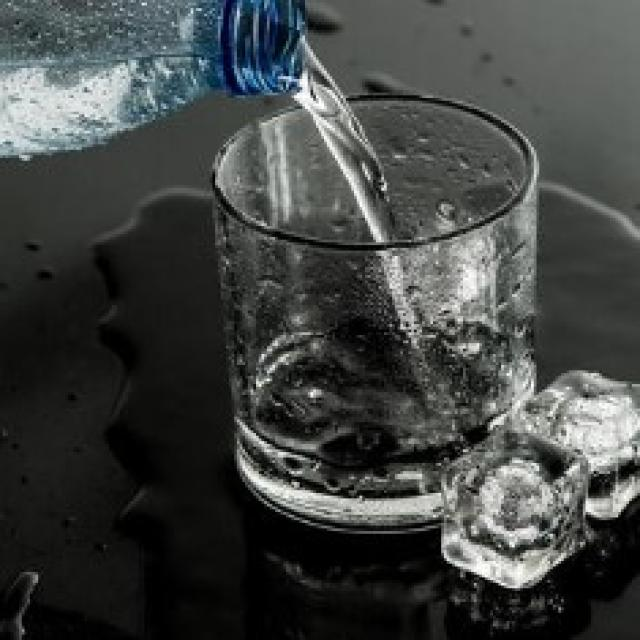electronic: (213, 90, 542, 540)
